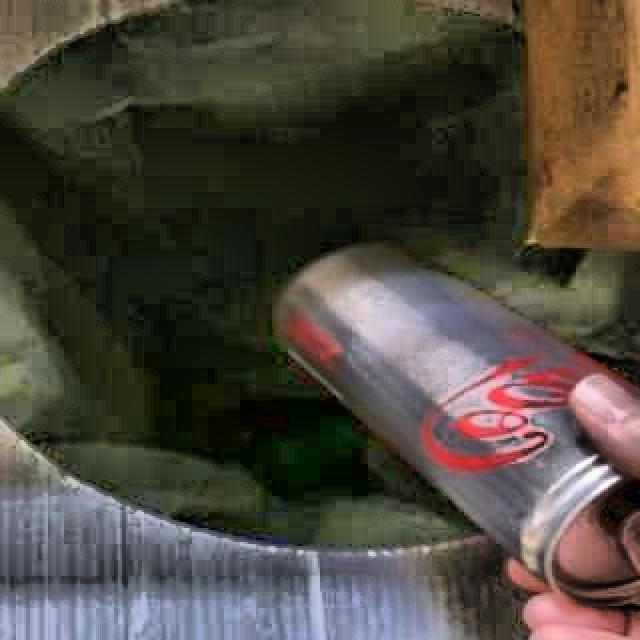metal: (279, 246, 640, 607)
